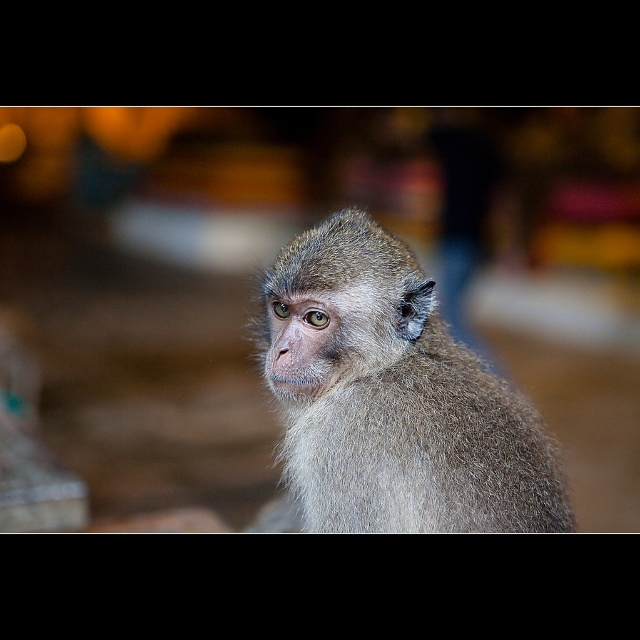Monkey: (241, 203, 581, 541)
